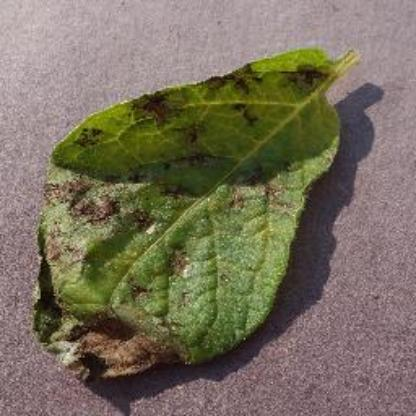Late-Blight: (32, 39, 362, 384)
